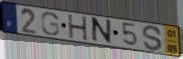2: (19, 8, 39, 36)
5: (120, 22, 139, 49)
G: (40, 11, 61, 37)
H: (66, 14, 89, 42)
N: (91, 16, 113, 46)
S: (141, 24, 164, 53)
